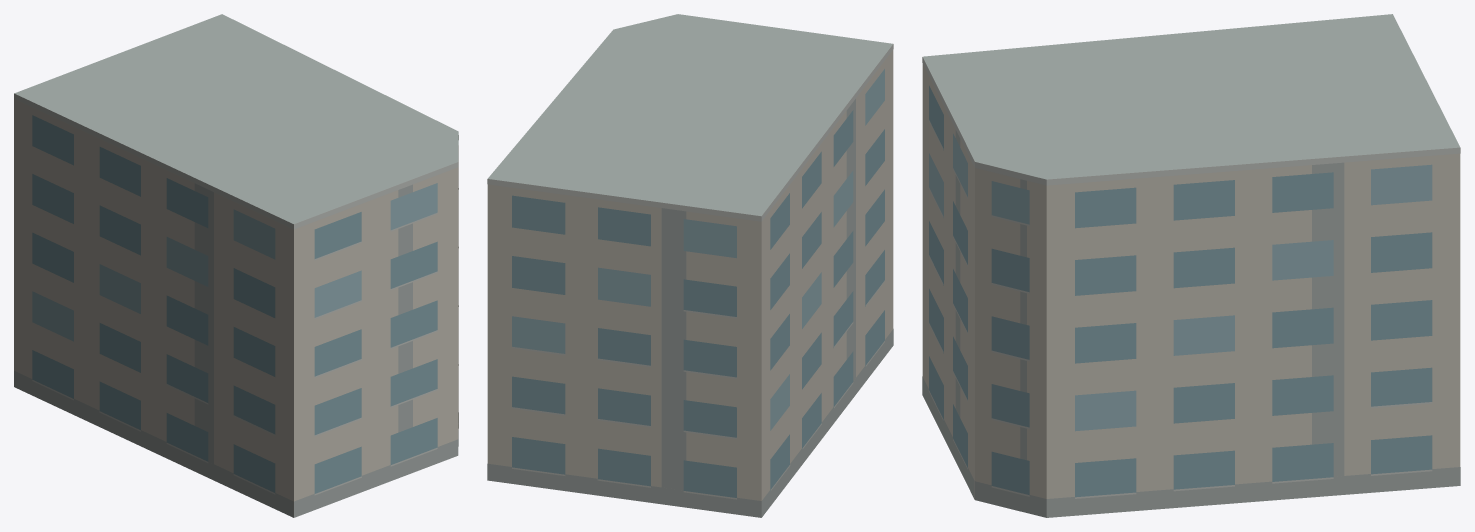
The model's file is survey-upis-32697657.glb.
3 renders of one model, left to right at view 1: azimuth 30°, elevation 25°; view 2: azimuth 150°, elevation 25°; view 3: azimuth 270°, elevation 25°, orthographic. The views are drawn at different scales.
Visible parts, largest first — view 1: survey-upis-32697657.tmp; view 2: survey-upis-32697657.tmp; view 3: survey-upis-32697657.tmp.
Boxes of the visible parts, x1,y1,x2,y2 form: survey-upis-32697657.tmp: (14, 14, 458, 517); survey-upis-32697657.tmp: (487, 14, 893, 517); survey-upis-32697657.tmp: (922, 14, 1460, 517).
Size of the model in its own units: 14.23 by 13.55 by 19.54.
